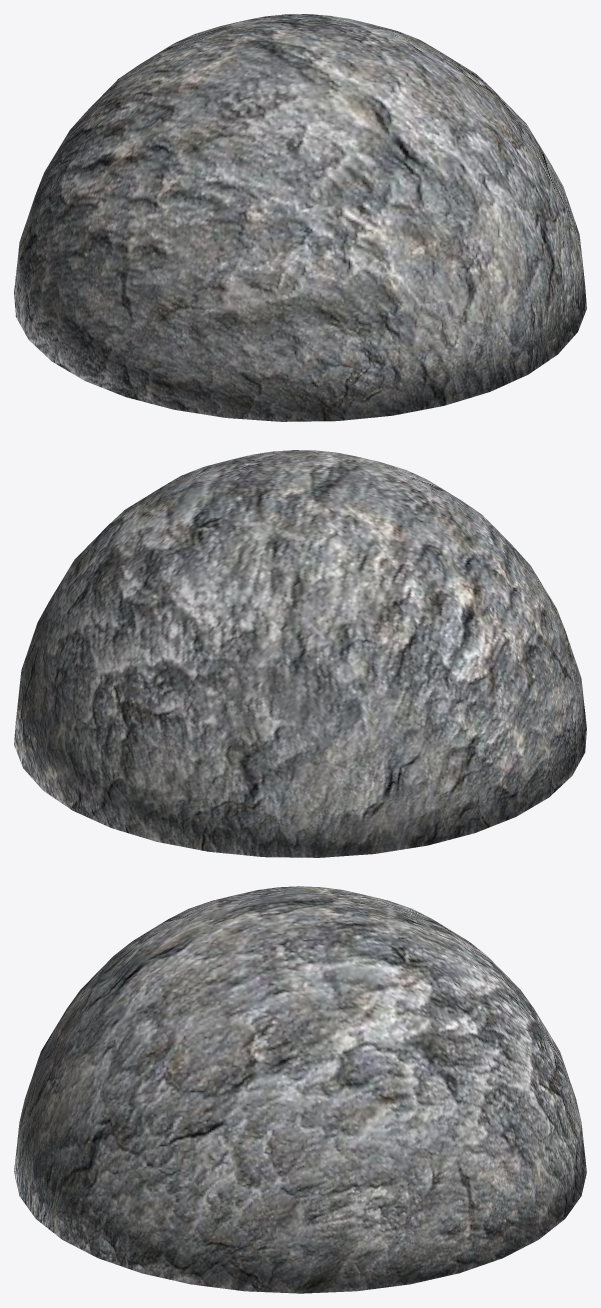
3 renders of one model, top to bottom at view 1: azimuth 30°, elevation 25°; view 2: azimuth 150°, elevation 25°; view 3: azimuth 270°, elevation 25°, orthographic.
Visible parts, largest first — view 1: HeileSphaere; view 2: HeileSphaere; view 3: HeileSphaere.
Boxes of the visible parts, x1=… form: HeileSphaere: x1=14, y1=14, x2=586, y2=421; HeileSphaere: x1=14, y1=450, x2=586, y2=857; HeileSphaere: x1=14, y1=886, x2=586, y2=1293.
Bounding box in the file's own units: 200 × 101 × 200.
